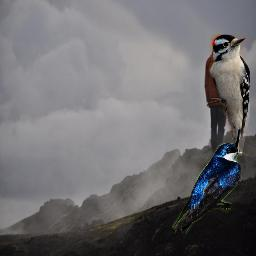Swallow: (172, 143, 243, 234)
Woodpecker: (207, 34, 250, 156)
